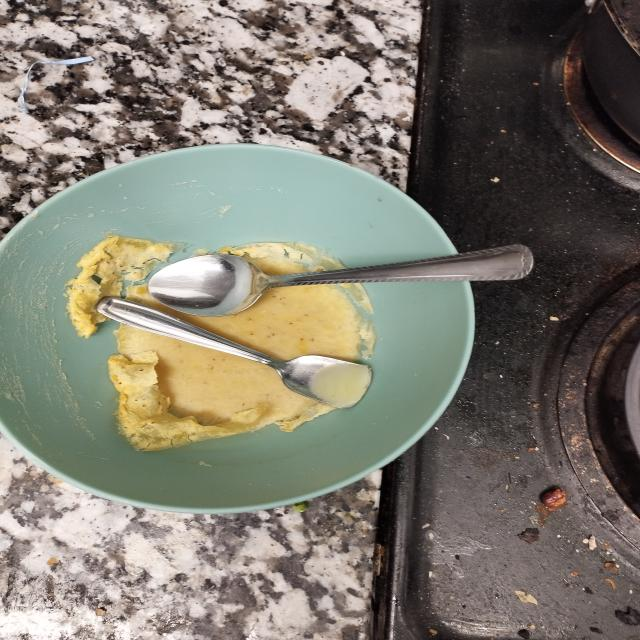Spoon: (80, 280, 381, 421), (134, 240, 579, 322)
